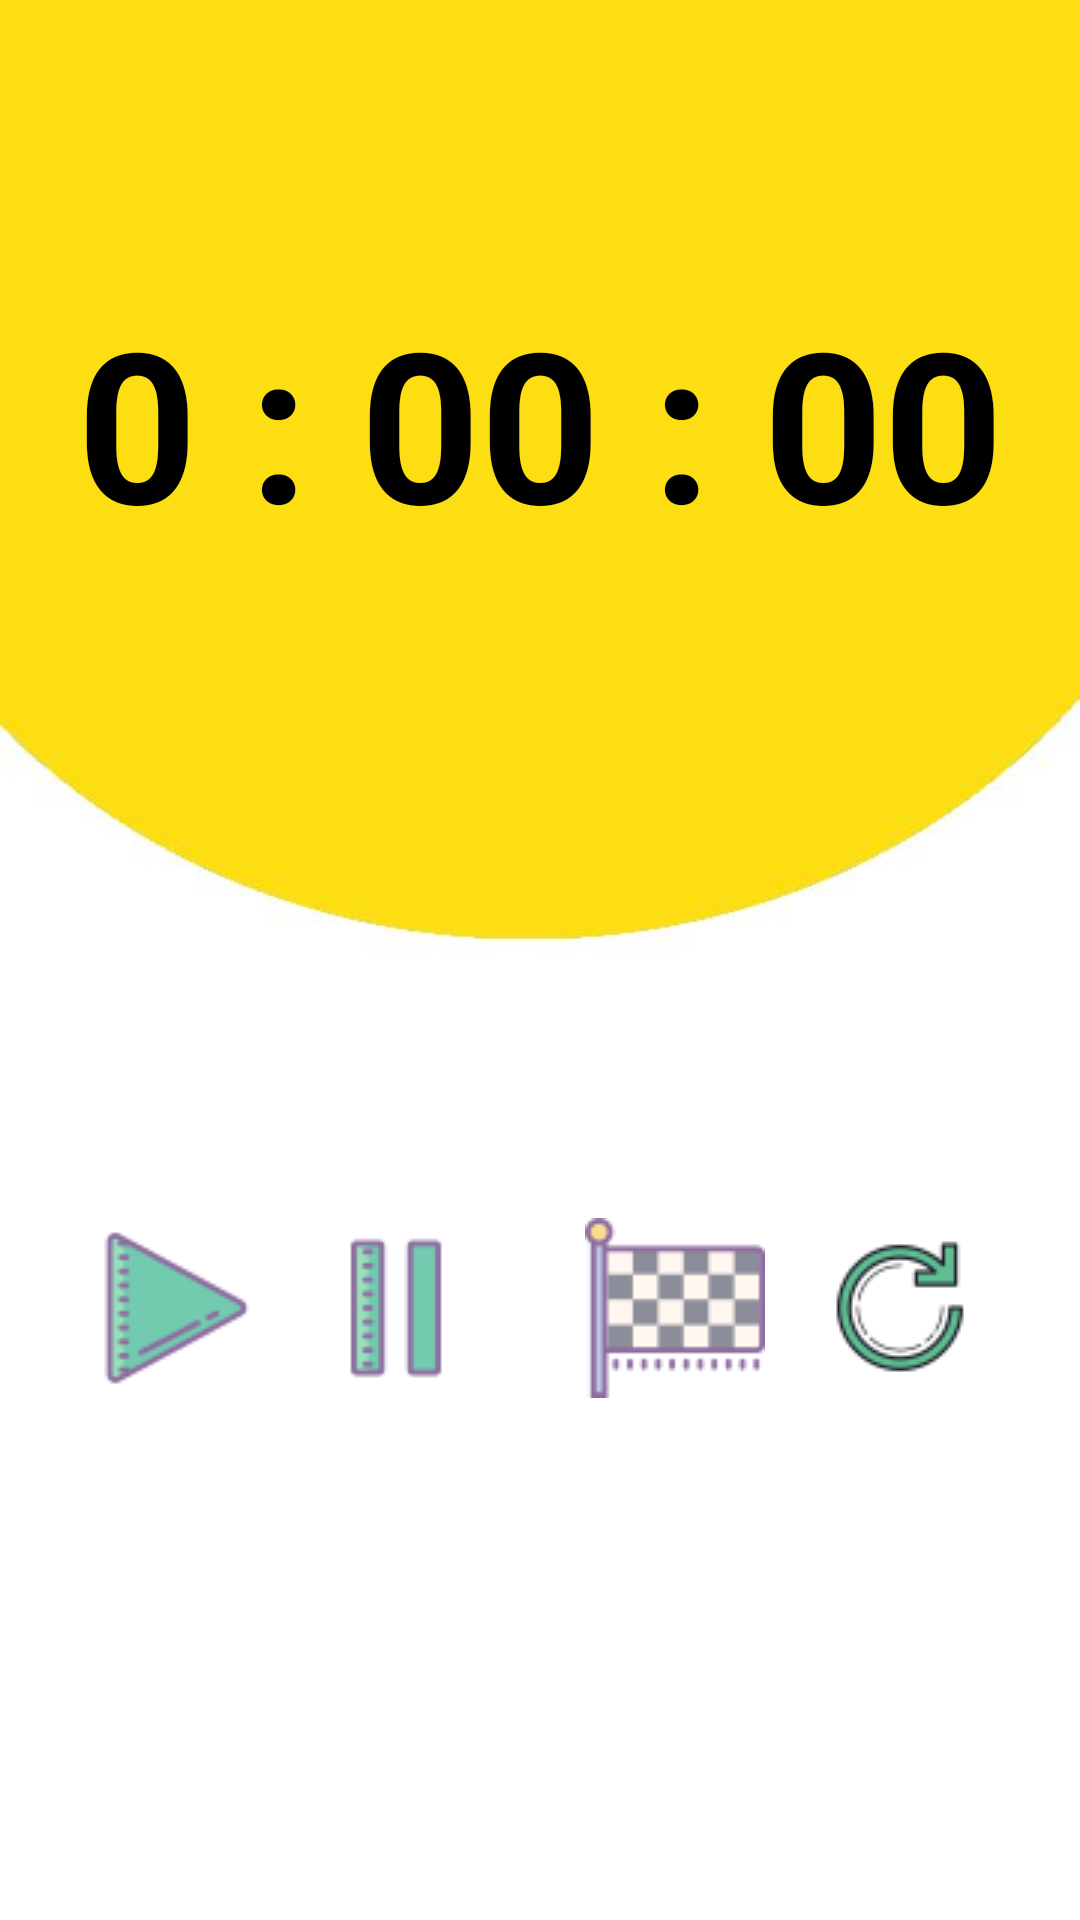

Locate icon controls on the screen. Image size 1080×1920, boxes as box=[x1, y1, x2, y2].
finish timer: box=[585, 1218, 765, 1398]
reset: box=[836, 1241, 964, 1372]
start timer: box=[105, 1232, 248, 1384]
timer pause: box=[350, 1239, 442, 1378]
